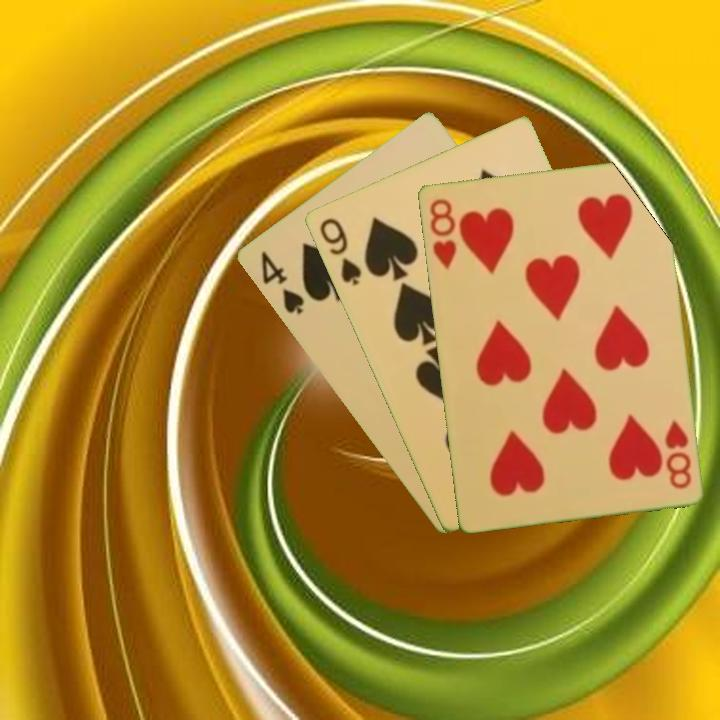4s: (256, 247, 307, 317)
8h: (426, 194, 459, 273), (660, 416, 694, 492)
9s: (315, 214, 364, 288)
